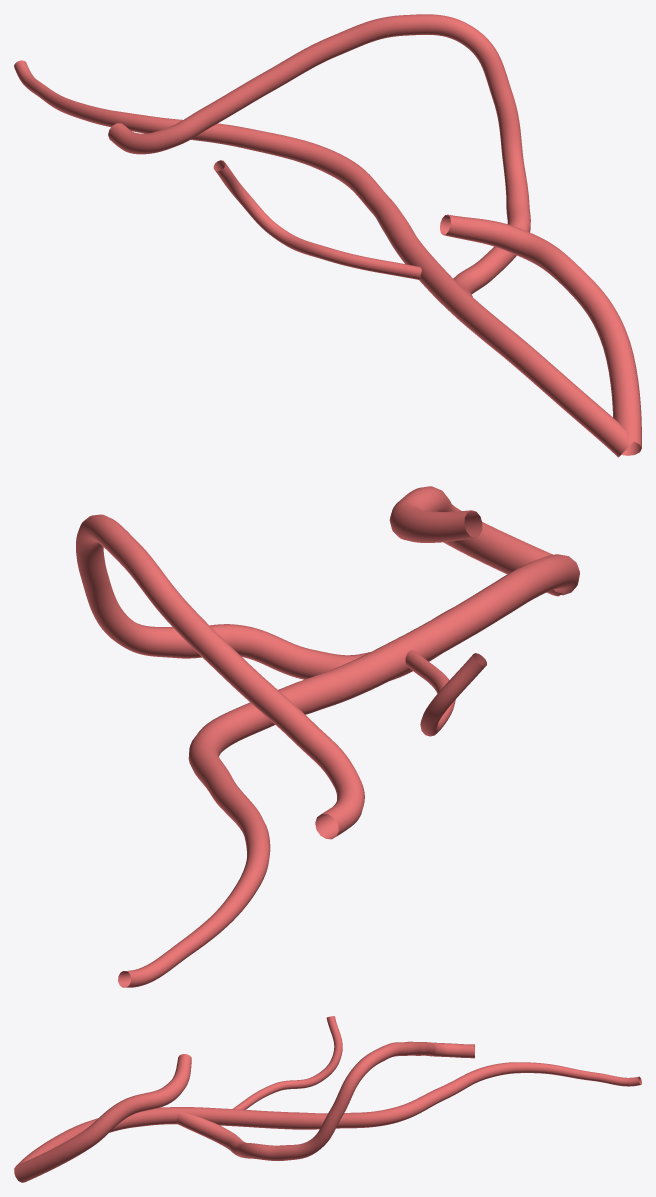
The model's file is Middle_cerebral_artery_(M3_segment).r_BezierCurve.223.glb.
3 views of the same model, one above another, from view 1: azimuth 30°, elevation 25°; view 2: azimuth 150°, elevation 25°; view 3: azimuth 270°, elevation 25° (orthographic). The views are drawn at different scales.
Visible parts, largest first — view 1: Middle_cerebral_artery_(M3_segment).r_BezierCurve.223; view 2: Middle_cerebral_artery_(M3_segment).r_BezierCurve.223; view 3: Middle_cerebral_artery_(M3_segment).r_BezierCurve.223.
Boxes of the visible parts, x1=… form: Middle_cerebral_artery_(M3_segment).r_BezierCurve.223: x1=14, y1=14, x2=641, y2=457; Middle_cerebral_artery_(M3_segment).r_BezierCurve.223: x1=76, y1=486, x2=579, y2=987; Middle_cerebral_artery_(M3_segment).r_BezierCurve.223: x1=14, y1=1016, x2=641, y2=1182.
Size of the model in its own units: 0.0265 by 0.0193 by 0.0723.
